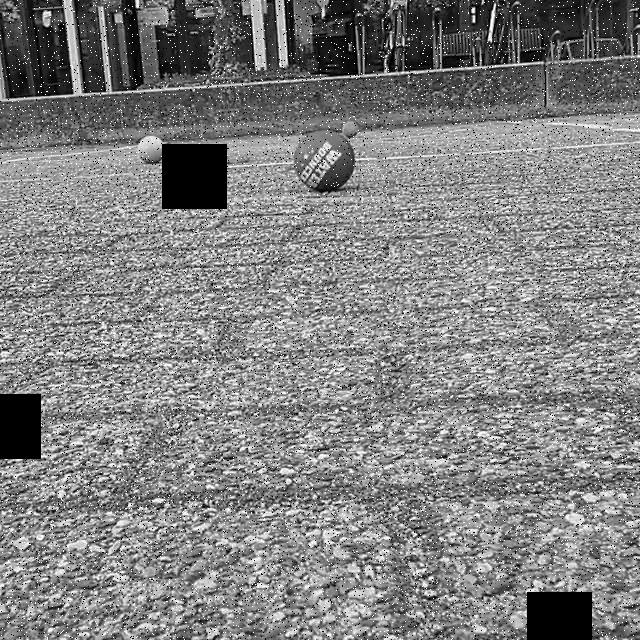ball: (132, 134, 166, 167), (339, 118, 363, 138)
